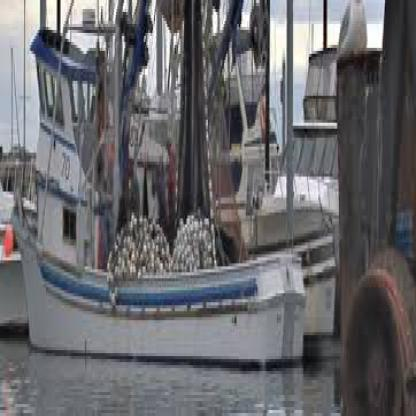fish-b: (11, 6, 315, 380)
